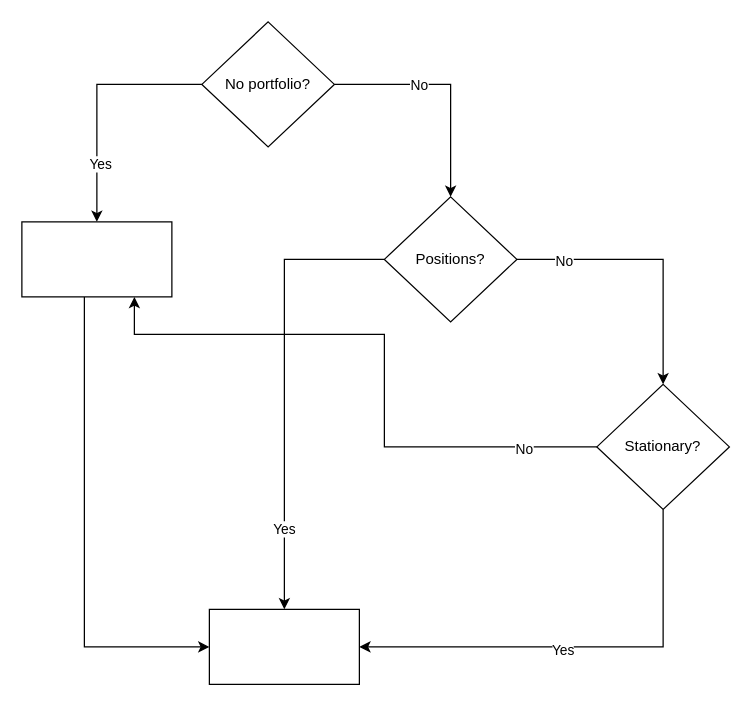
The diagram is 751 pixels wide and 706 high, and some of its shapes have lost their labels. The shapes that lost their labels are listed below. From the top down, each one's centre as x and y in pixels, then its label:
At (96,259): "Construct new portfolio".
At (283,646): "Trade".
